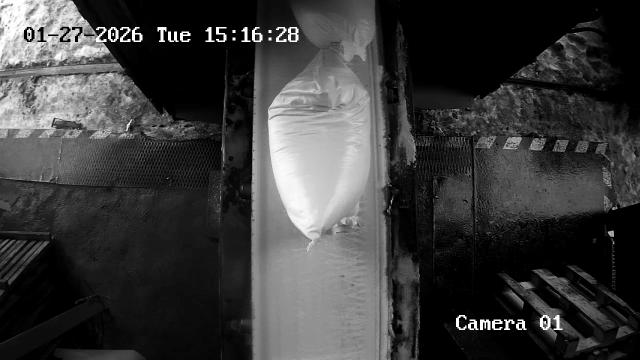bag: (269, 49, 371, 243), (291, 0, 375, 48)
